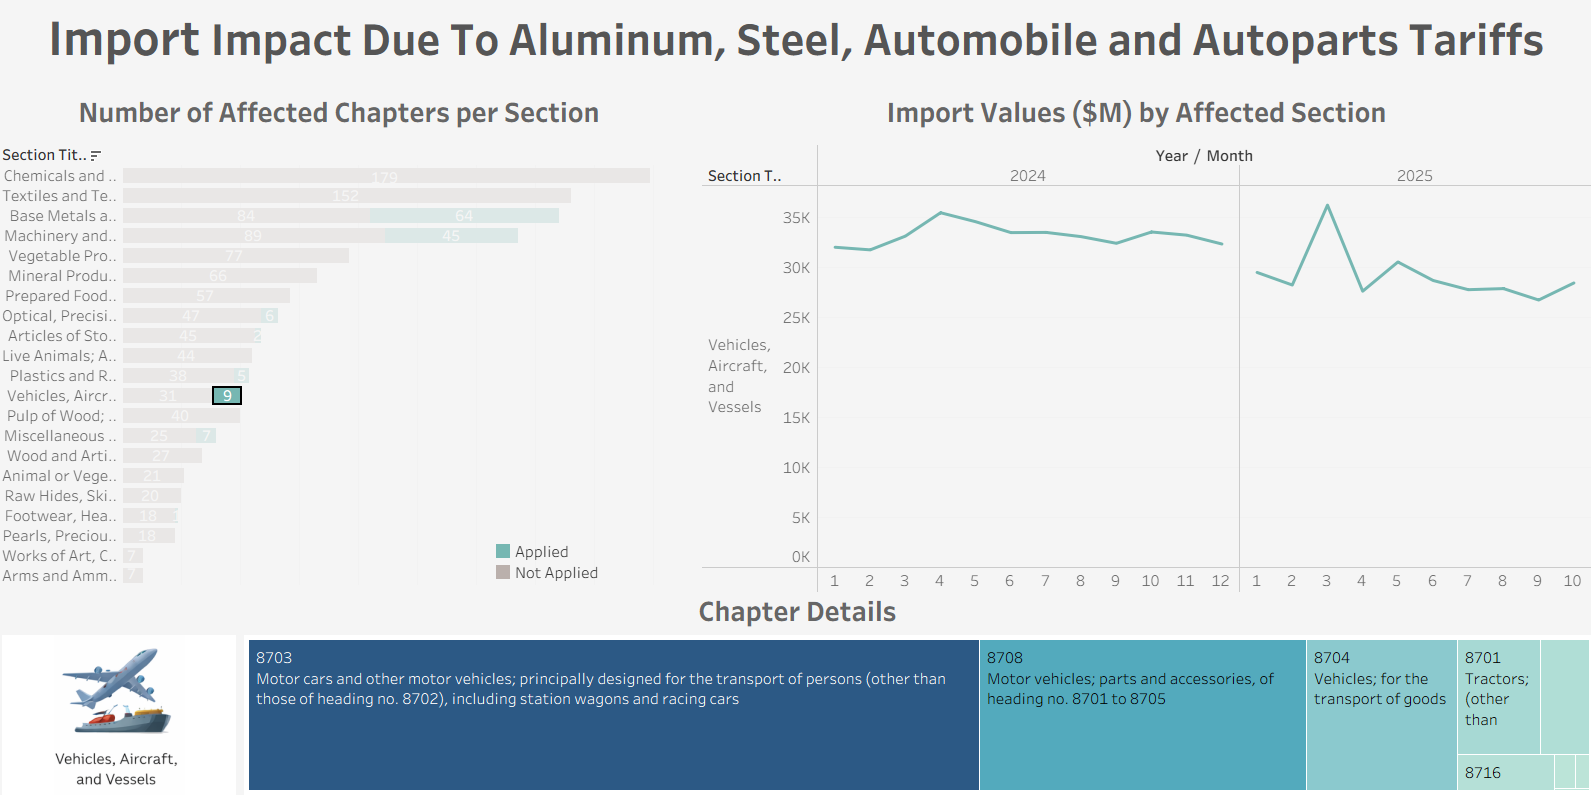

What the dashboard file says about the page in this screenshot:
{"tool":"tableau","page":{"name":"may 3","canvas":[650,860],"ordinal":10},"visuals":[{"type":"image","param":"C:/Users/rcrds/Desktop/Ironhack/Final Project/Images/istockphoto-1034249292-612x","box":[8,8.1,634,843.7]},{"type":"image","param":"C:/Users/rcrds/Desktop/Ironhack/Final Project/Images/Icons/Vehicles.png","box":[462,657.5,179,182.2]},{"type":"image","param":"C:/Users/rcrds/Desktop/Ironhack/Final Project/Images/Icons/Machinery.png","box":[309,662.6,168,189.3]}]}

Visuals, with their boxes on the page's 650x860 design canvas (x1, y1, x2, y2). These are canvas units, not pixel positions in the 1591x795 screenshot, which may show the page scaled, cropped or inside an application window:
image: 8,8,642,852
image: 462,658,641,840
image: 309,663,477,852
